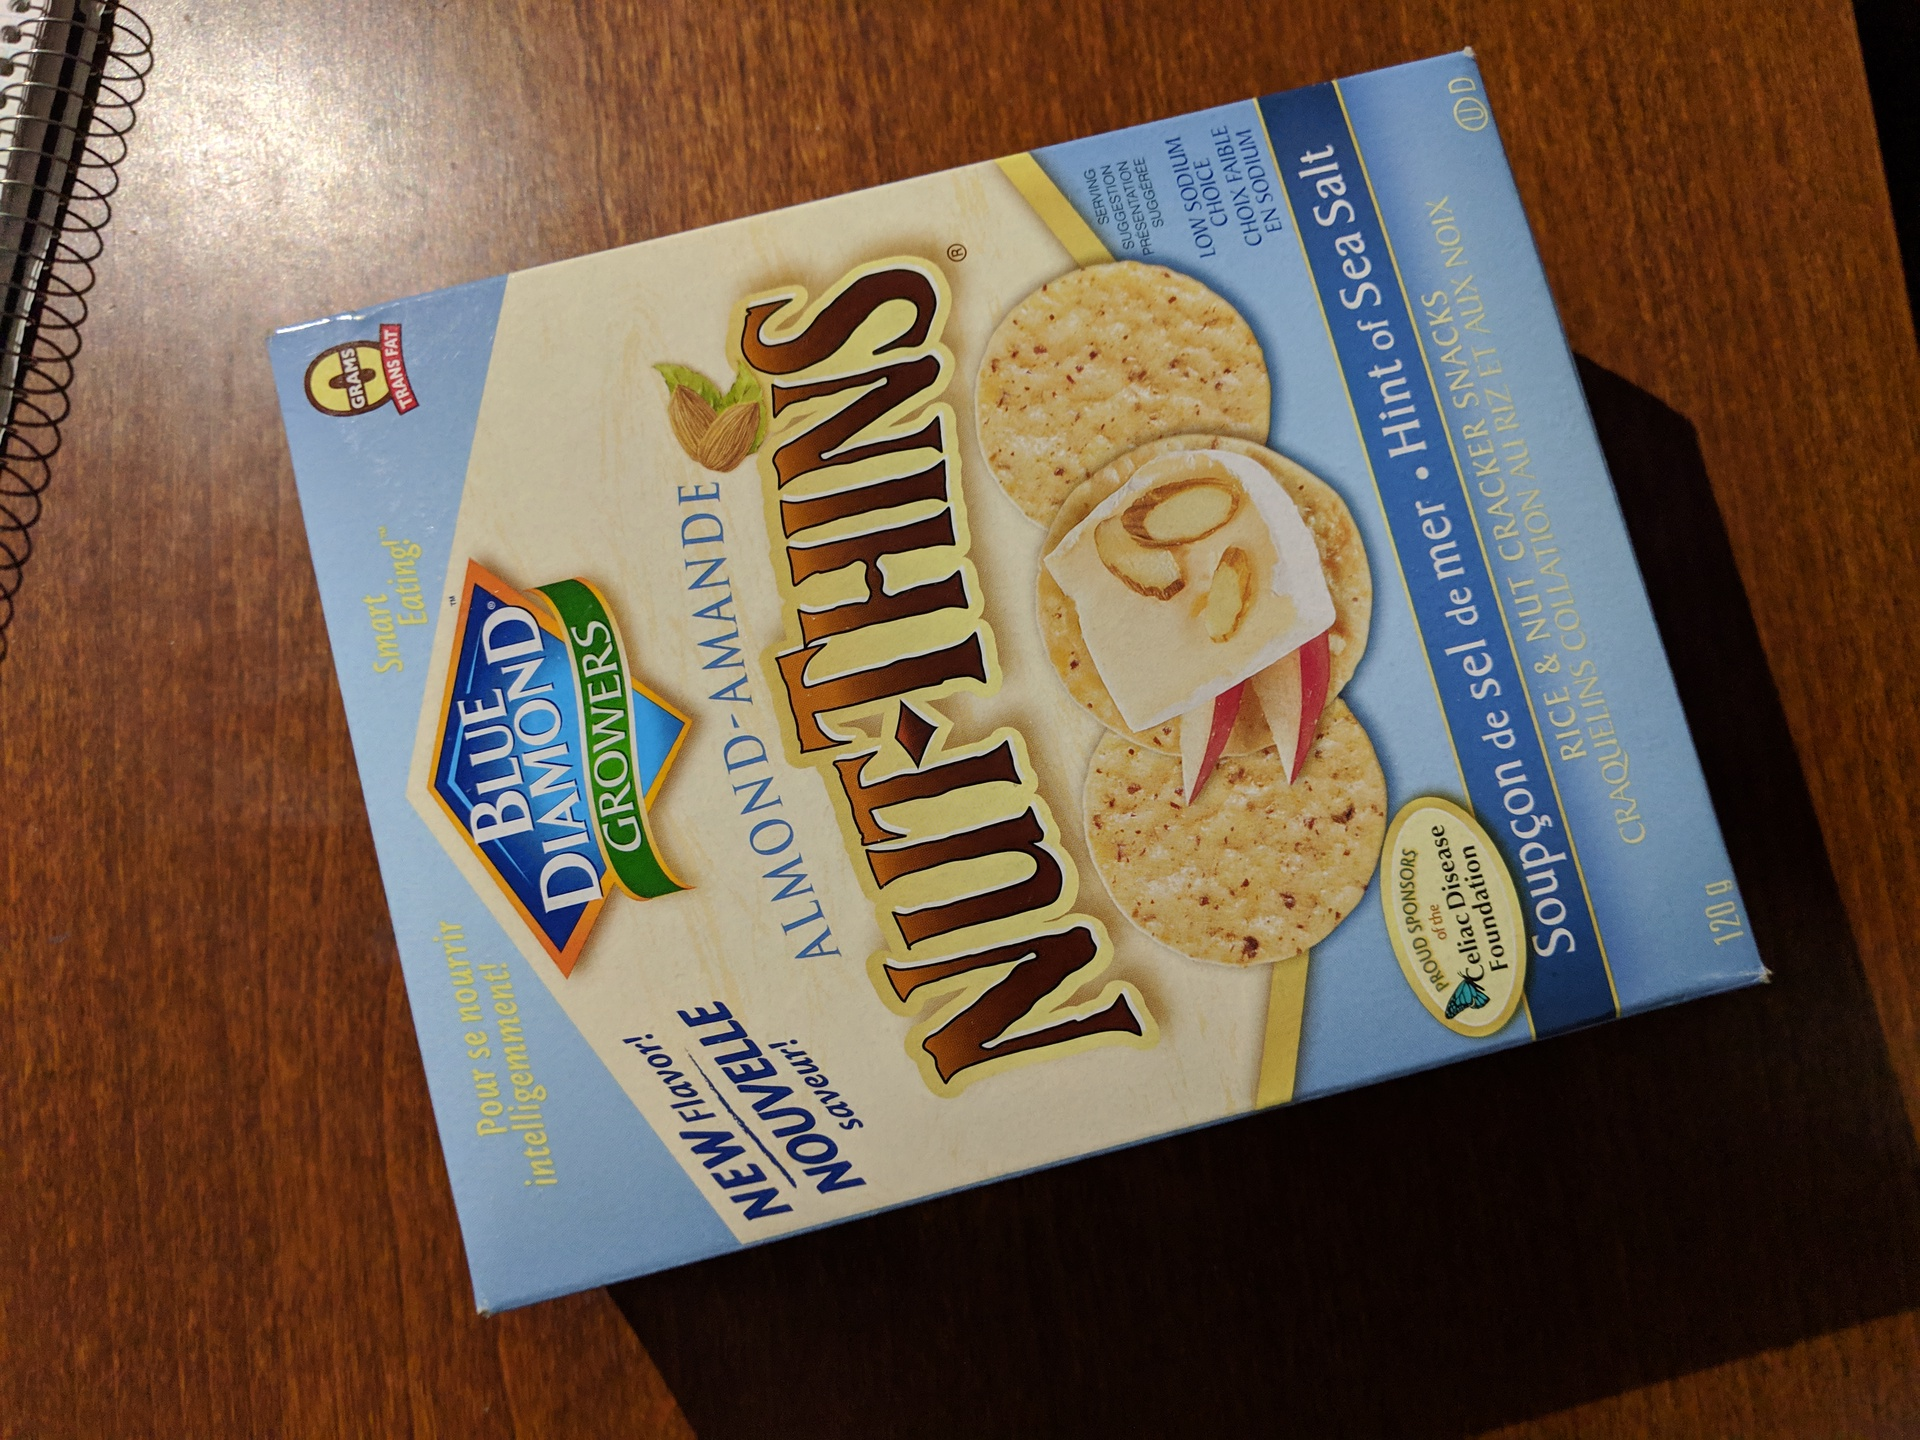blue_diamond_nut_thins_almond_seasalt: (333, 101, 1669, 1199)
